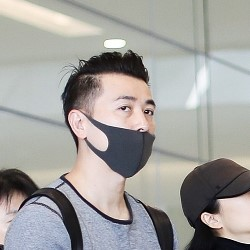mask: (76, 116, 157, 180)
